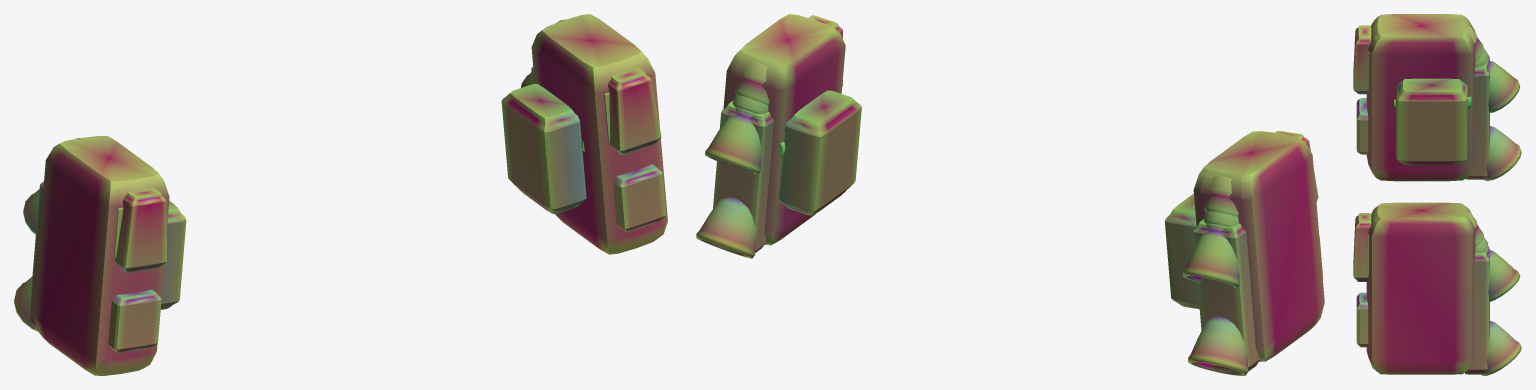
Rendered from llm_gen_leg_thrusters_071_db3329.glb.
The picture shows the model from 3 angles, left to right: view 1: azimuth 30°, elevation 25°; view 2: azimuth 150°, elevation 25°; view 3: azimuth 270°, elevation 25°; orthographic projection. The views are drawn at different scales.
Visible parts, largest first — view 1: outer_shin_armor_0_wing_white_l, outer_shin_armor_0_wing_white_r, adapter_calf_clamp_r, knee_guard_blade_2_psycho_emerald_l, knee_guard_blade_2_psycho_emerald_r, lower_shin_bumper_4_psycho_emerald_l, lower_shin_bumper_4_psycho_emerald_r, adapter_calf_clamp_l, rear_thruster_manifold_dark_5_adapter_dark_l, rear_surge_bell_bot_7_vernier_bell_vernier_l; view 2: outer_shin_armor_0_wing_white_l, outer_shin_armor_0_wing_white_r, adapter_calf_clamp_r, rear_thruster_manifold_dark_5_adapter_dark_l, rear_thruster_manifold_dark_5_adapter_dark_r, adapter_calf_clamp_l, rear_surge_bell_bot_7_vernier_bell_vernier_l, rear_surge_bell_bot_7_vernier_bell_vernier_r, rear_surge_bell_top_6_vernier_bell_vernier_r, rear_surge_bell_top_6_vernier_bell_vernier_l, rear_surge_bell_top_6_vernier_bell_gimbal_collar_dark_r, rear_surge_bell_top_6_vernier_bell_gimbal_collar_dark_l; view 3: outer_shin_armor_0_wing_white_r, outer_shin_armor_0_wing_white_l, adapter_calf_clamp_l, rear_thruster_manifold_dark_5_adapter_dark_r, rear_thruster_manifold_dark_5_adapter_dark_l, rear_surge_bell_bot_7_vernier_bell_vernier_l, rear_surge_bell_bot_7_vernier_bell_vernier_r, rear_surge_bell_top_6_vernier_bell_vernier_l, rear_surge_bell_top_6_vernier_bell_vernier_r, knee_guard_blade_2_psycho_emerald_l, knee_guard_blade_2_psycho_emerald_r, lower_shin_bumper_4_psycho_emerald_l (+3 smaller).
Part boxes in pixels (box(x1,y1,x2,y2)): outer_shin_armor_0_wing_white_l: box(33, 136, 169, 375); outer_shin_armor_0_wing_white_r: box(531, 14, 667, 254); adapter_calf_clamp_r: box(501, 84, 586, 213); knee_guard_blade_2_psycho_emerald_l: box(115, 188, 166, 272); knee_guard_blade_2_psycho_emerald_r: box(608, 68, 661, 154); lower_shin_bumper_4_psycho_emerald_l: box(108, 289, 161, 353); lower_shin_bumper_4_psycho_emerald_r: box(613, 164, 666, 231); adapter_calf_clamp_l: box(160, 201, 186, 309); rear_thruster_manifold_dark_5_adapter_dark_l: box(29, 181, 43, 331); rear_surge_bell_bot_7_vernier_bell_vernier_l: box(14, 276, 36, 330); outer_shin_armor_0_wing_white_l: box(1193, 131, 1324, 361); outer_shin_armor_0_wing_white_r: box(723, 14, 845, 245); adapter_calf_clamp_r: box(779, 90, 861, 215); rear_thruster_manifold_dark_5_adapter_dark_l: box(1193, 219, 1260, 372); rear_thruster_manifold_dark_5_adapter_dark_r: box(713, 100, 773, 252); adapter_calf_clamp_l: box(1165, 193, 1199, 309); rear_surge_bell_bot_7_vernier_bell_vernier_l: box(1188, 316, 1248, 375); rear_surge_bell_bot_7_vernier_bell_vernier_r: box(696, 197, 756, 258); rear_surge_bell_top_6_vernier_bell_vernier_r: box(705, 106, 761, 174); rear_surge_bell_top_6_vernier_bell_vernier_l: box(1182, 223, 1239, 288); rear_surge_bell_top_6_vernier_bell_gimbal_collar_dark_r: box(735, 61, 769, 105); rear_surge_bell_top_6_vernier_bell_gimbal_collar_dark_l: box(1204, 176, 1238, 216); outer_shin_armor_0_wing_white_r: box(1366, 202, 1475, 374); outer_shin_armor_0_wing_white_l: box(1366, 14, 1475, 181); adapter_calf_clamp_l: box(1396, 78, 1467, 165); rear_thruster_manifold_dark_5_adapter_dark_r: box(1465, 247, 1489, 374); rear_thruster_manifold_dark_5_adapter_dark_l: box(1465, 54, 1489, 179); rear_surge_bell_bot_7_vernier_bell_vernier_l: box(1483, 126, 1521, 180); rear_surge_bell_bot_7_vernier_bell_vernier_r: box(1481, 321, 1521, 375); rear_surge_bell_top_6_vernier_bell_vernier_l: box(1484, 57, 1520, 113); rear_surge_bell_top_6_vernier_bell_vernier_r: box(1485, 246, 1520, 301); knee_guard_blade_2_psycho_emerald_l: box(1353, 25, 1371, 94); knee_guard_blade_2_psycho_emerald_r: box(1353, 213, 1371, 281); lower_shin_bumper_4_psycho_emerald_l: box(1356, 98, 1368, 154).
Size of the model in its own units: 80.15 by 26.84 by 25.87.
